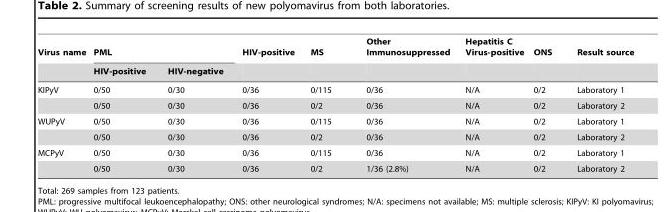table: (37, 36, 633, 172)
table column: (348, 36, 456, 172), (156, 36, 232, 172), (456, 36, 528, 172), (563, 36, 633, 172), (232, 36, 301, 172), (89, 36, 156, 172), (37, 36, 89, 172), (301, 36, 348, 172), (528, 36, 563, 172)
table column header: (37, 36, 633, 80)
table row: (37, 36, 633, 61), (37, 61, 633, 80), (37, 80, 633, 97), (37, 97, 633, 113), (37, 113, 633, 129), (37, 144, 633, 160), (37, 129, 633, 144), (37, 160, 633, 172)
table spanning cell: (348, 36, 456, 80), (89, 36, 232, 61), (456, 36, 528, 80), (563, 36, 633, 80), (232, 36, 301, 80), (37, 36, 89, 80), (301, 36, 348, 80), (37, 80, 89, 113), (37, 113, 89, 144), (528, 36, 563, 80), (37, 144, 89, 172)
